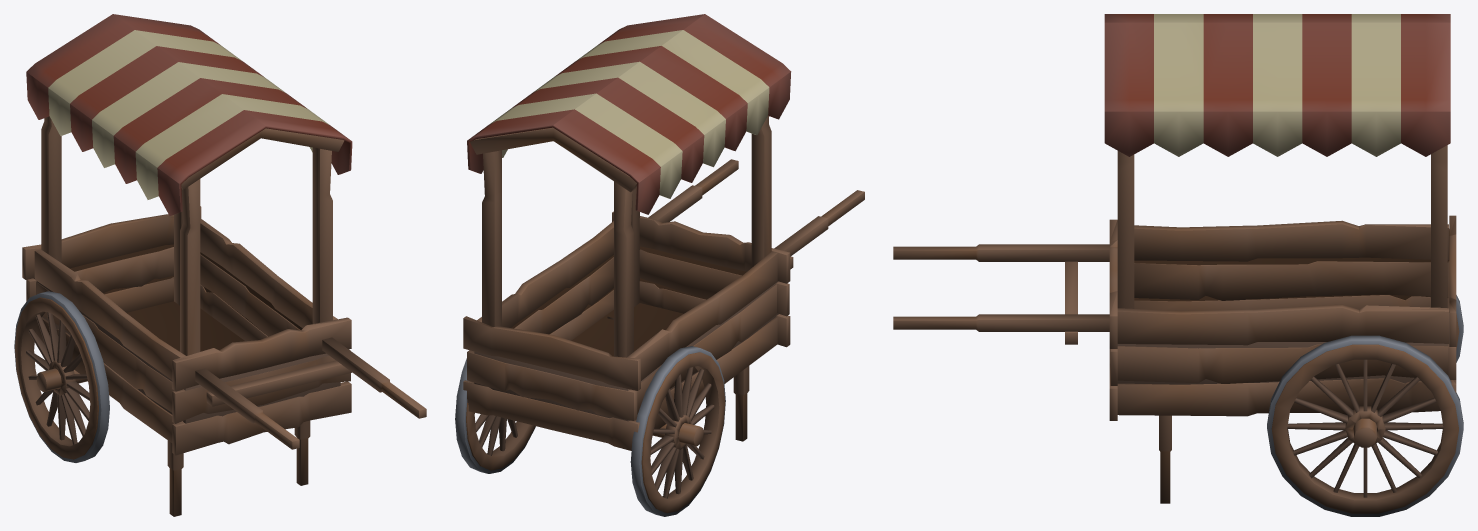
The model's file is prop_cart.glb.
The picture shows the model from 3 angles, left to right: view 1: azimuth 30°, elevation 25°; view 2: azimuth 150°, elevation 25°; view 3: azimuth 270°, elevation 25°; orthographic projection. The views are drawn at different scales.
Parts seen in each view (by area): view 1: refined; view 2: refined; view 3: refined.
Boxes of the visible parts, bbox=[...] form: refined: bbox=[14, 14, 426, 516]; refined: bbox=[455, 14, 864, 516]; refined: bbox=[893, 14, 1463, 516].
Bounding box in the file's own units: 0.462 × 0.7961 × 0.9274.
